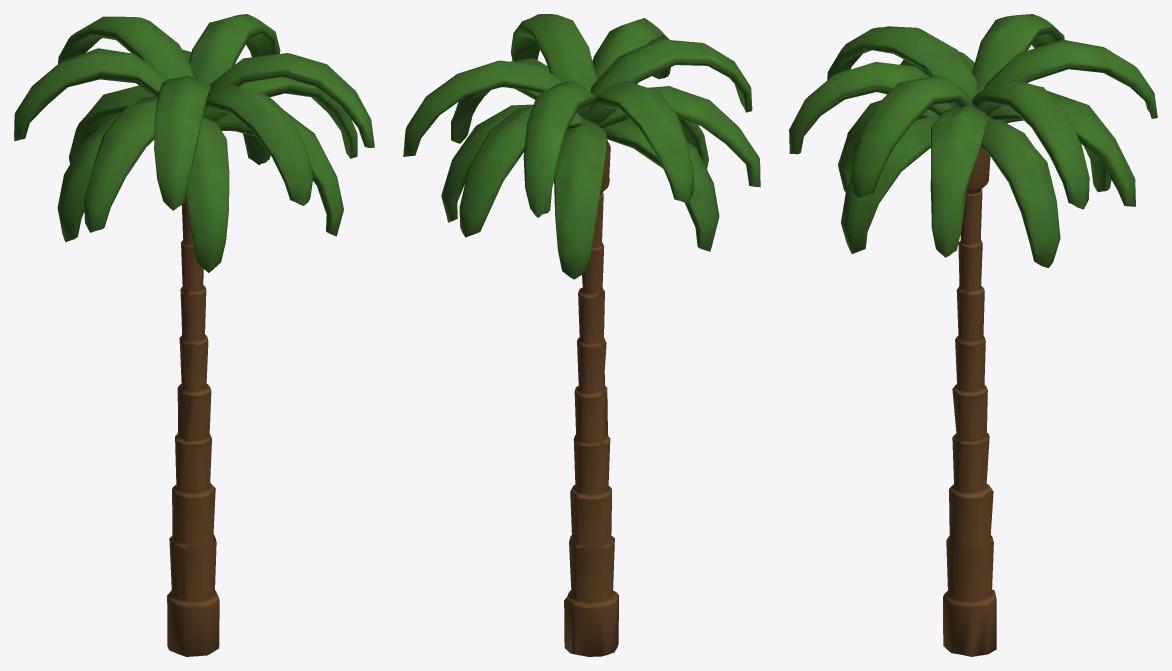
Rendered from 43-palm-tree.glb.
3 renders of one model, left to right at view 1: azimuth 30°, elevation 25°; view 2: azimuth 150°, elevation 25°; view 3: azimuth 270°, elevation 25°, orthographic.
Visible parts, largest first — view 1: geometry_0; view 2: geometry_0; view 3: geometry_0.
Boxes of the visible parts, x1,y1,x2,y2 form: geometry_0: (14, 14, 374, 656); geometry_0: (403, 14, 760, 656); geometry_0: (789, 14, 1157, 656).
Bounding box in the file's own units: 0.4824 × 0.9521 × 0.5327.
Materials: 1 (1 with a texture image).
